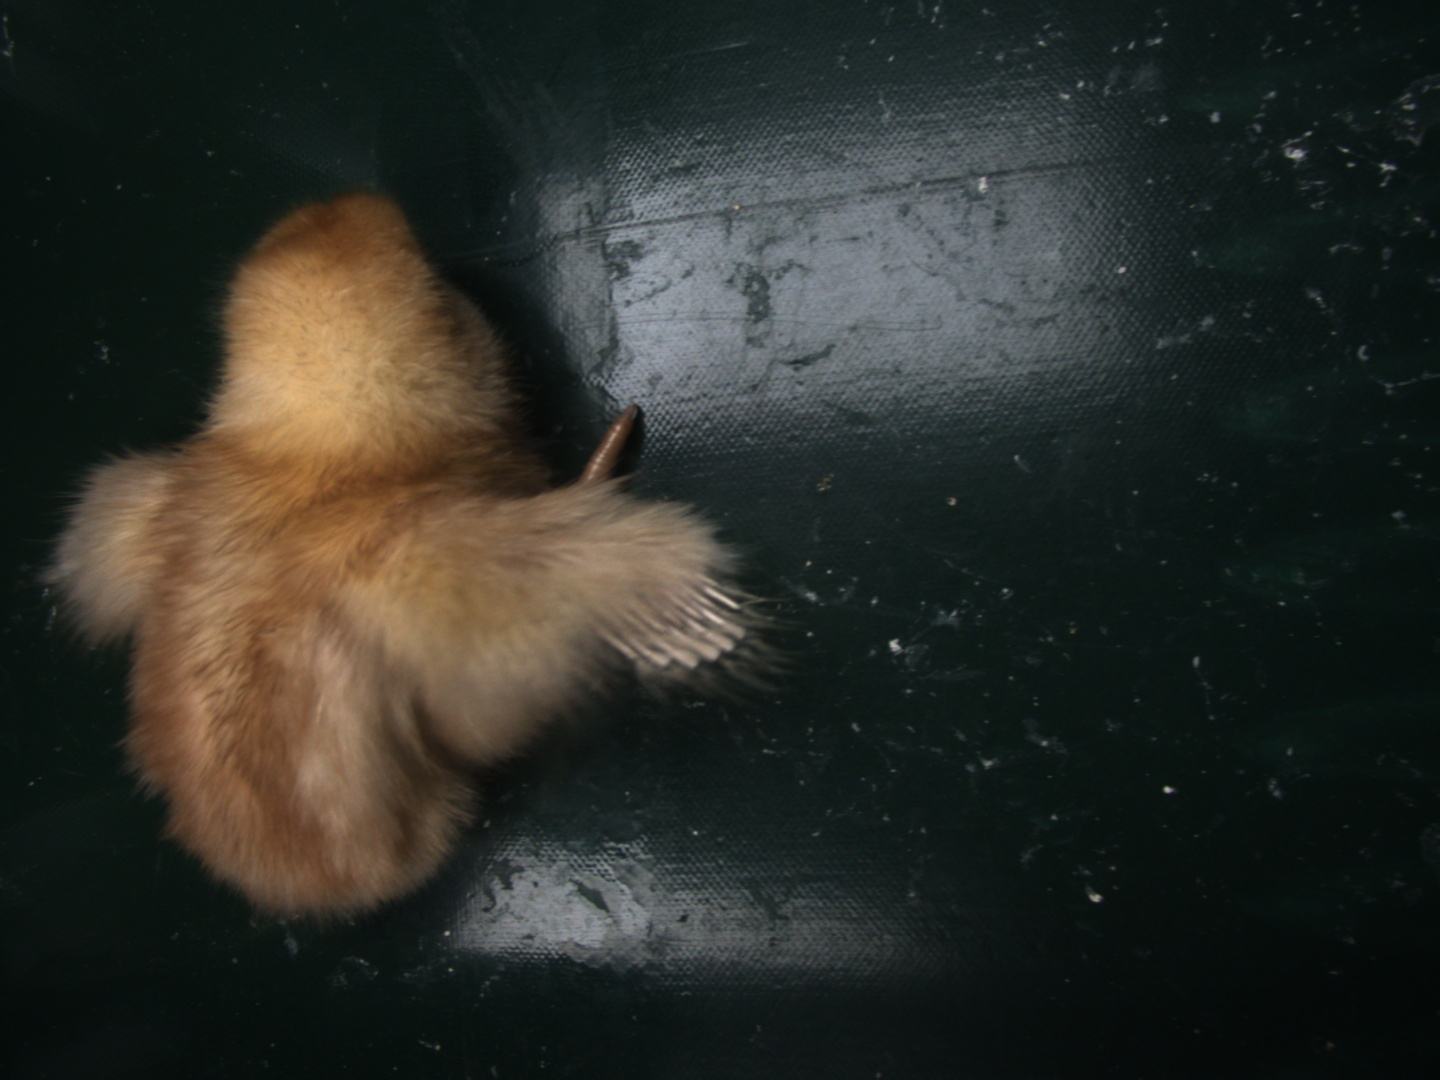female: (600, 575, 743, 666)
